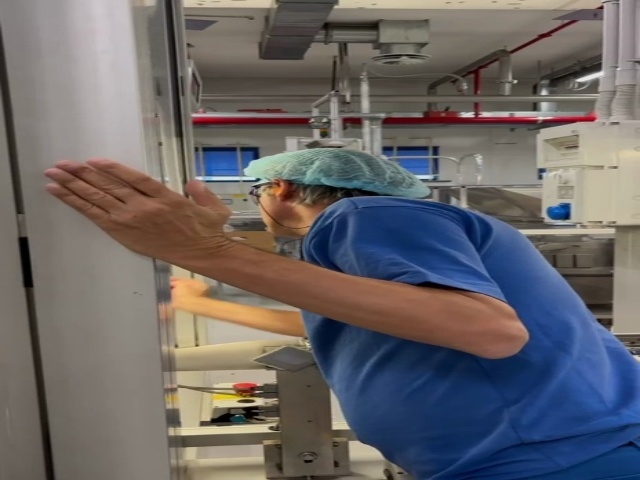Earplug: (266, 179, 287, 203)
Hairnet: (241, 146, 431, 198)
No_Helmet: (245, 147, 433, 197)
No_Vest: (300, 196, 639, 465)
Person: (45, 148, 640, 480)
Safety_Goggles: (239, 178, 276, 206)
